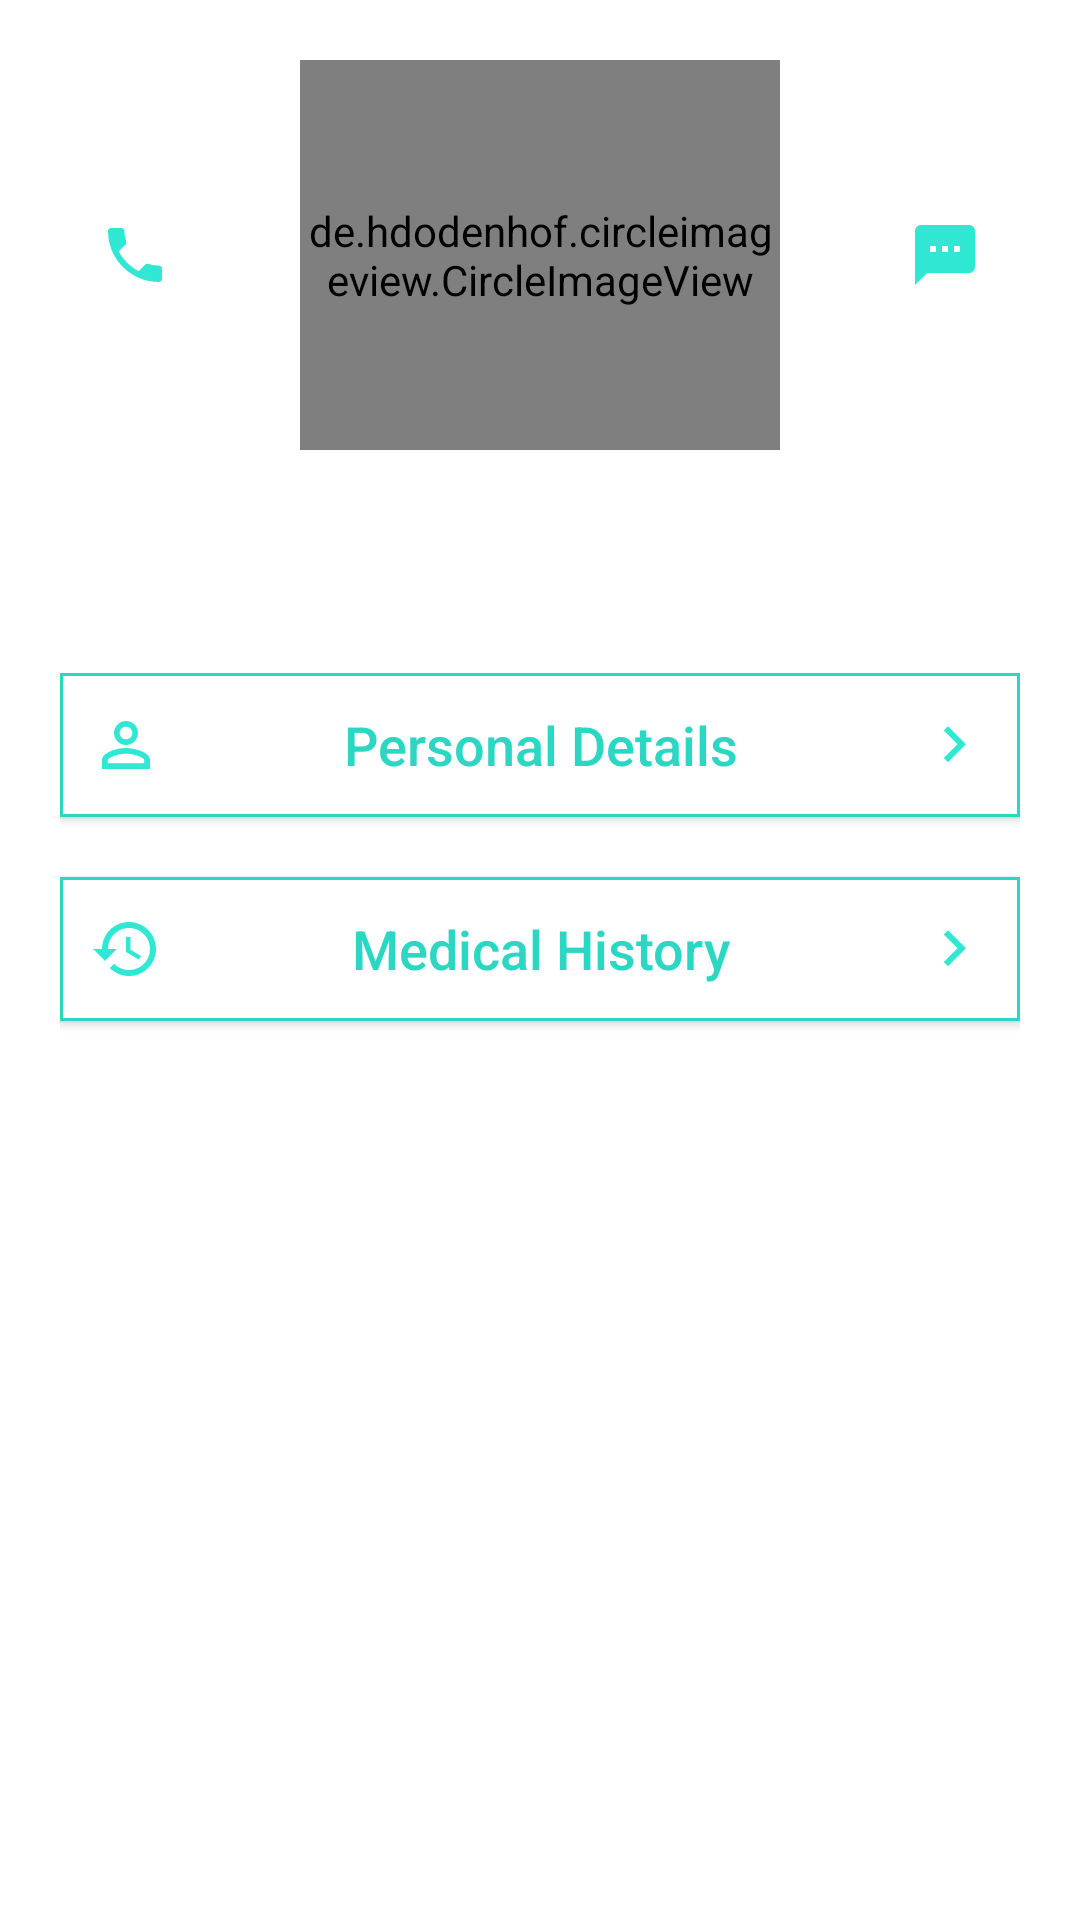

Locate icon controls on the screen. Image size 1080 x 1920, boxes as [left=x1, top=y1, right=x2, bottom=y2].
local phone: [left=108, top=228, right=162, bottom=282]
